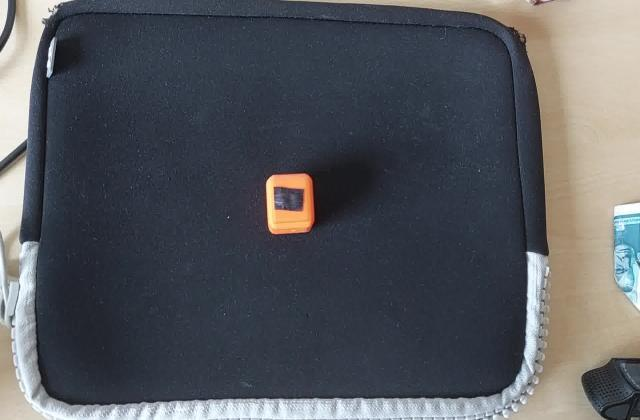black: (270, 185, 308, 215)
sticker: (263, 173, 317, 239)
